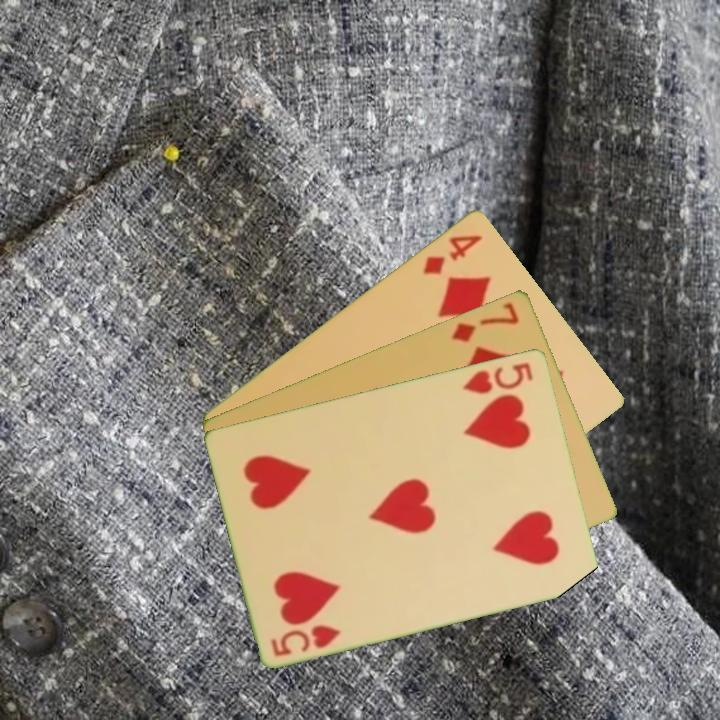4d: (419, 230, 486, 278)
5h: (459, 358, 537, 397), (267, 620, 344, 659)
7d: (448, 298, 522, 345)
